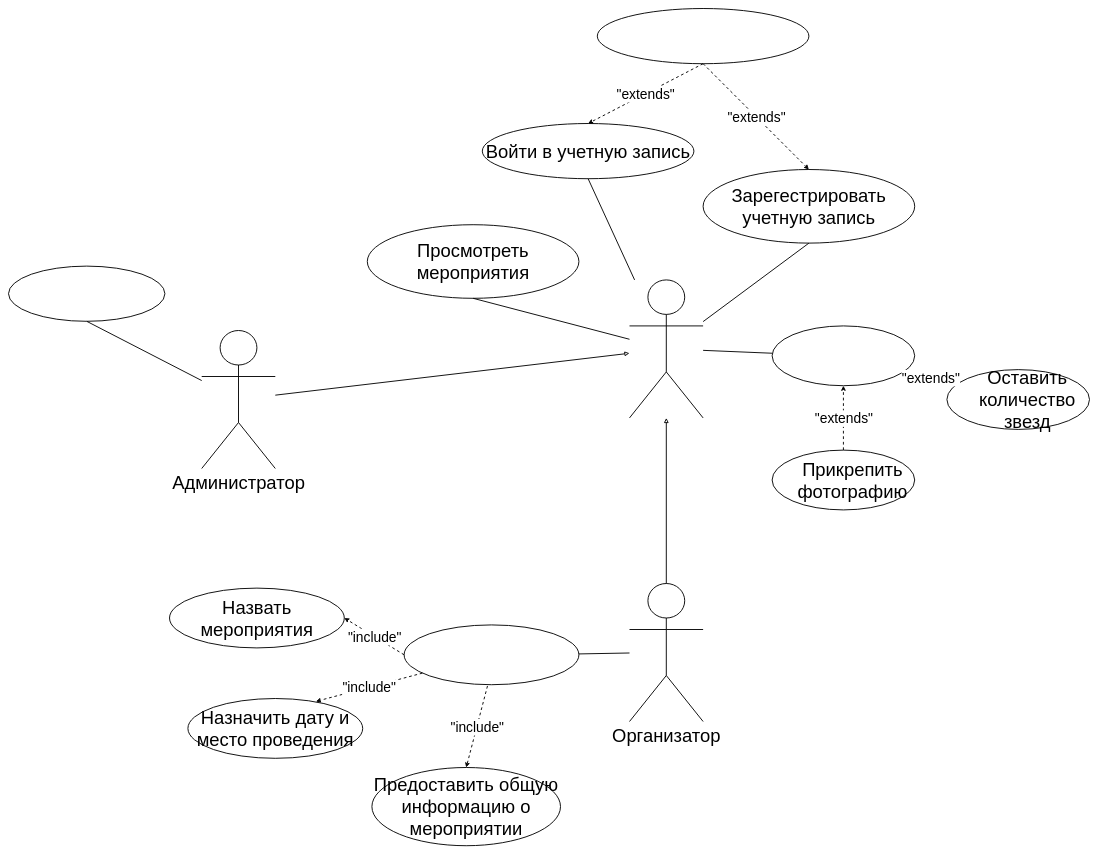
This 1098x854 diagram has some shape labels left out. Each missing label, with the centre of its shape:
"Добавление мероприятия" belongs at point (491, 654).
"Оставить отзыв" belongs at point (843, 355).
"Пользователь" belongs at point (666, 348).
"Редактировать учетную запись" belongs at point (703, 36).
"Утвердить мероприятие" belongs at point (86, 293).
